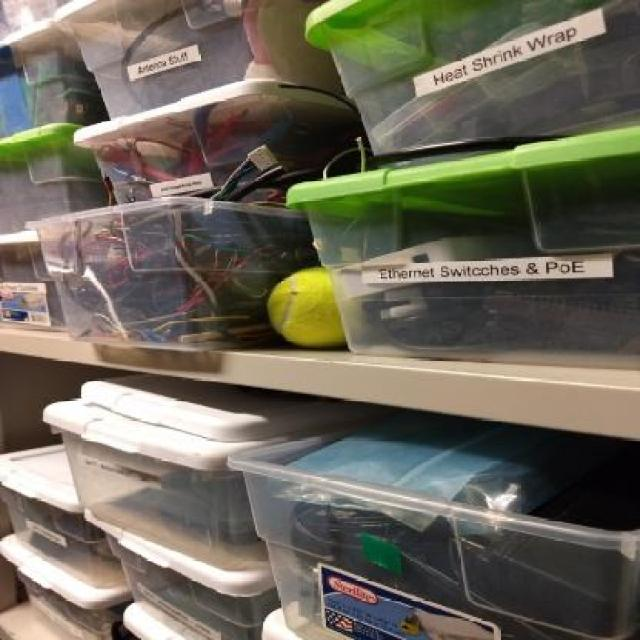Tennis_Ball: (274, 264, 340, 348)
